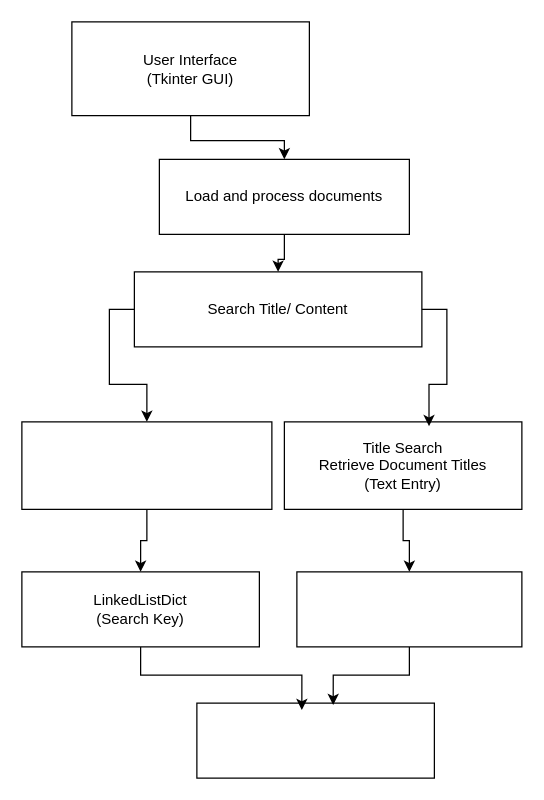
Image size: 544x800. Some labels were removed from this diagram. The box of each missing label's shape, as (x1, y1, x2, y2) in pixels:
Content Search (Text) Entry -User Inputs word -Content Search: (21, 421, 272, 509)
LinkedListDict (Search Content): (296, 571, 522, 647)
Show Results: (196, 702, 434, 778)
